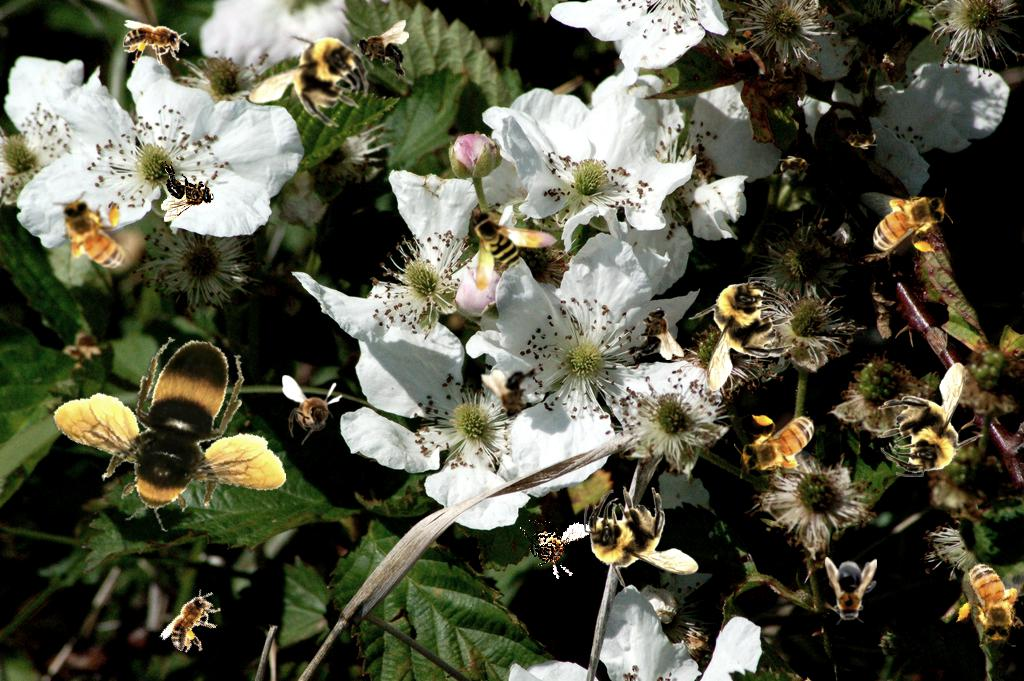Bee: (42, 321, 292, 548), (231, 3, 390, 160), (877, 362, 984, 477), (688, 277, 795, 392), (584, 486, 699, 593), (51, 185, 135, 290), (948, 547, 1024, 654), (469, 209, 557, 291), (510, 508, 593, 586), (860, 188, 953, 256), (734, 411, 827, 479), (158, 580, 230, 661), (479, 361, 550, 425), (282, 375, 343, 445), (825, 557, 877, 625), (161, 160, 214, 222), (356, 20, 409, 82), (622, 307, 684, 360), (123, 20, 189, 65), (841, 128, 881, 150), (775, 155, 815, 177)
